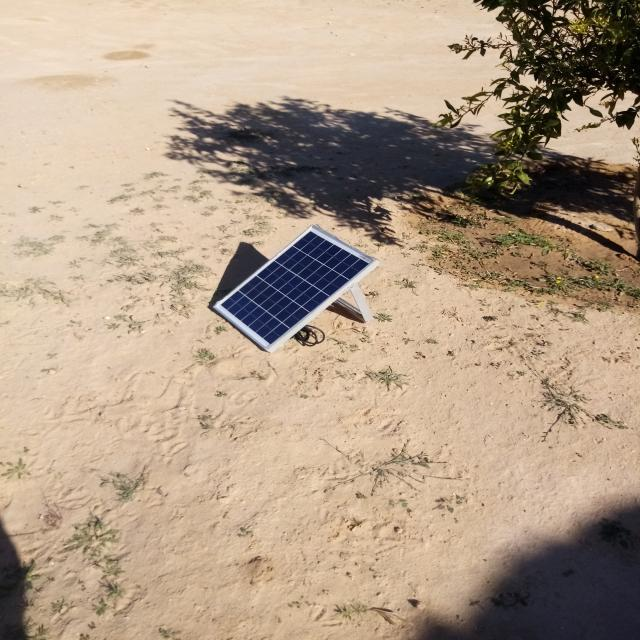no faulty: (214, 226, 377, 349)
